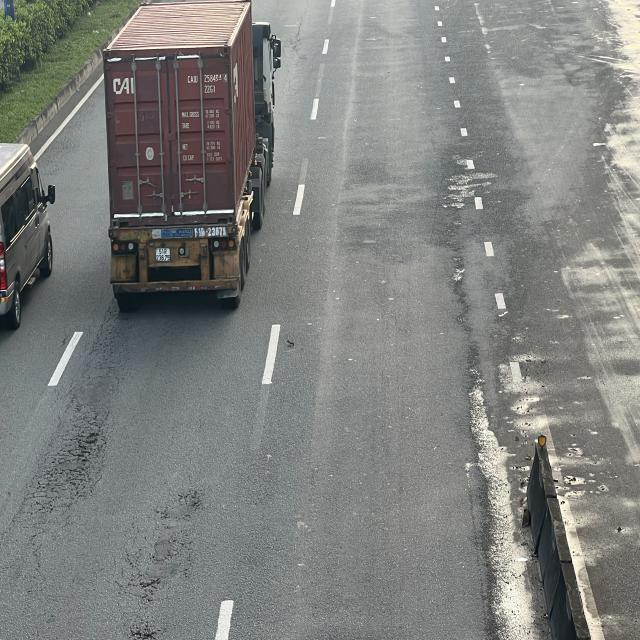container: (100, 5, 277, 305)
van: (0, 140, 56, 327)
